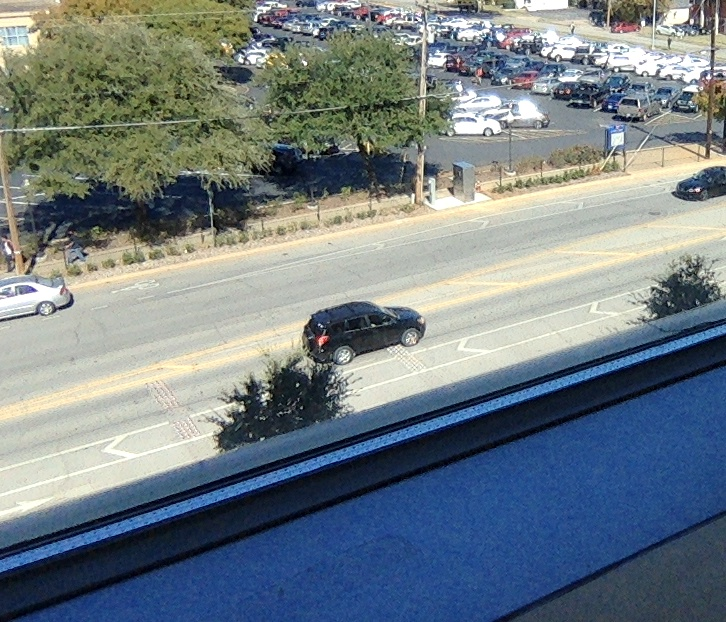car: (300, 300, 426, 366)
